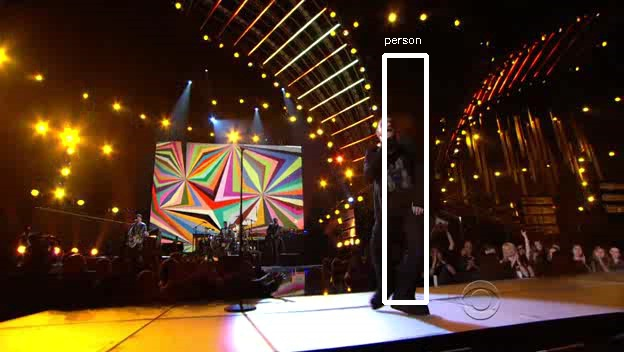person: (363, 116, 430, 230), (360, 116, 427, 230), (366, 116, 433, 230), (363, 113, 430, 227), (363, 119, 430, 233)
target_negative: (212, 44, 493, 169), (87, 303, 454, 348), (192, 221, 543, 263), (99, 281, 386, 310), (432, 46, 455, 330), (607, 190, 623, 338)
